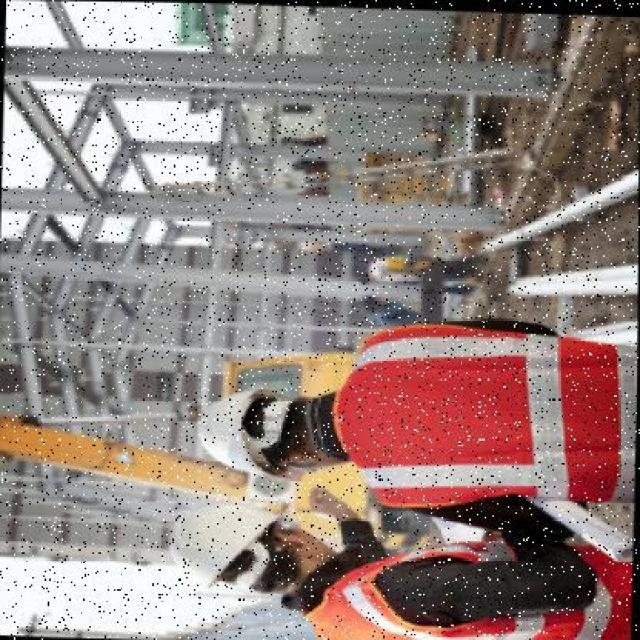helmet: (165, 502, 287, 596), (193, 381, 309, 479)
vest: (336, 314, 637, 508), (308, 522, 634, 639)
